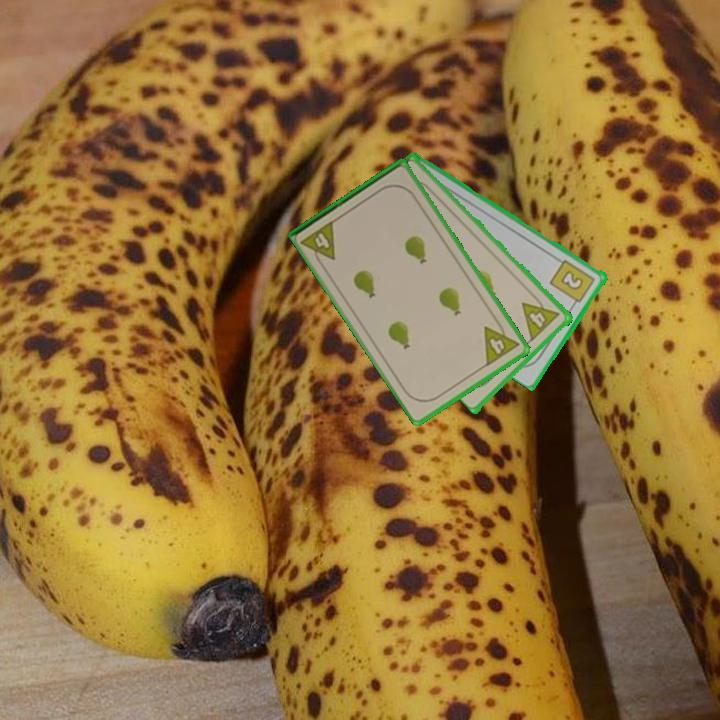2b: (547, 256, 598, 310)
4p: (518, 290, 563, 343), (480, 315, 522, 369), (298, 216, 339, 269)
